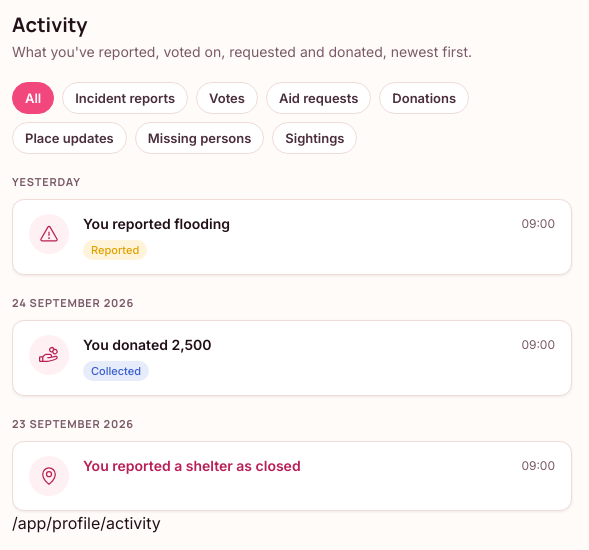
Test: ActivityPage › filtering › says which kind is empty when a filter matches nothing
Expected: the text "You reported flooding" is shown, [83,214,230,232]
Click the button "Sightings": (315, 138) [272,122,358,154]
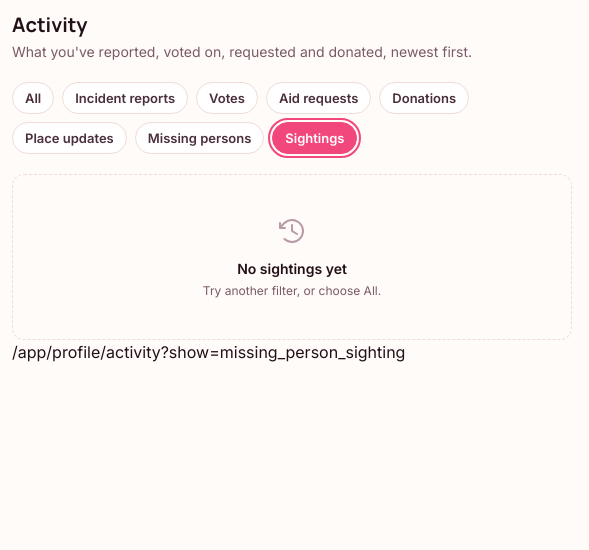
Expected: the text "No sightings yet" is shown, [237,259,347,279]
